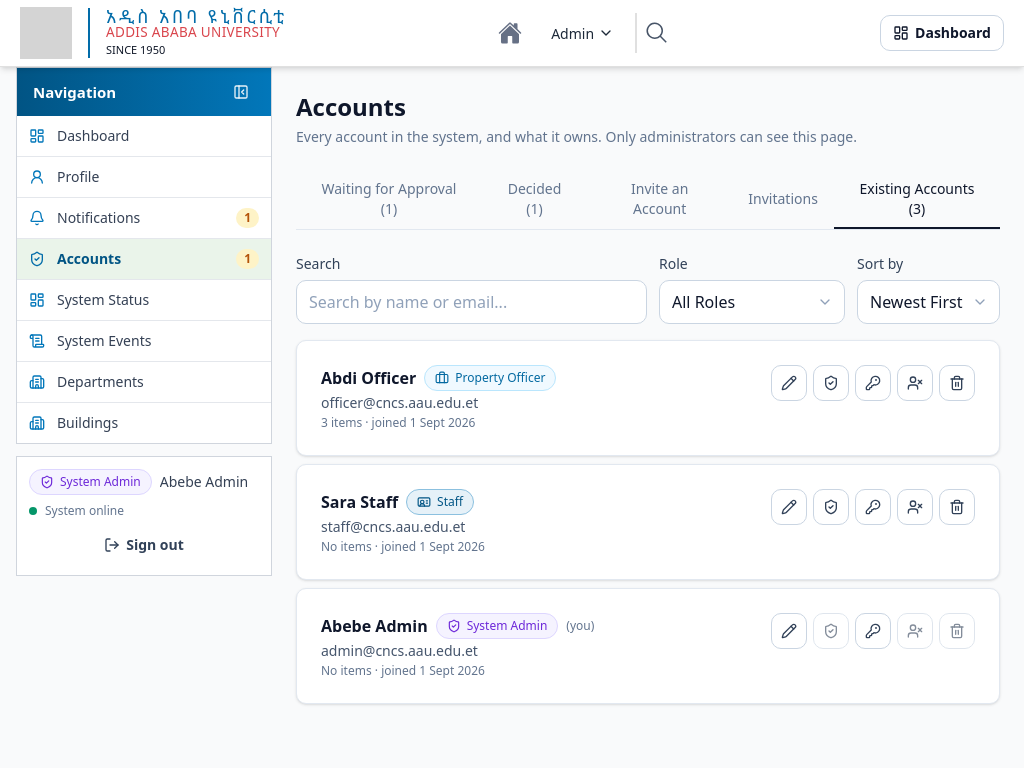
Test case: /admin/users — the accounts screen › warns about the sessions a role change ends before it is sent
Click the button named "Change role for Sara Staff" at {"x": 831, "y": 507}, box [813, 489, 849, 525]
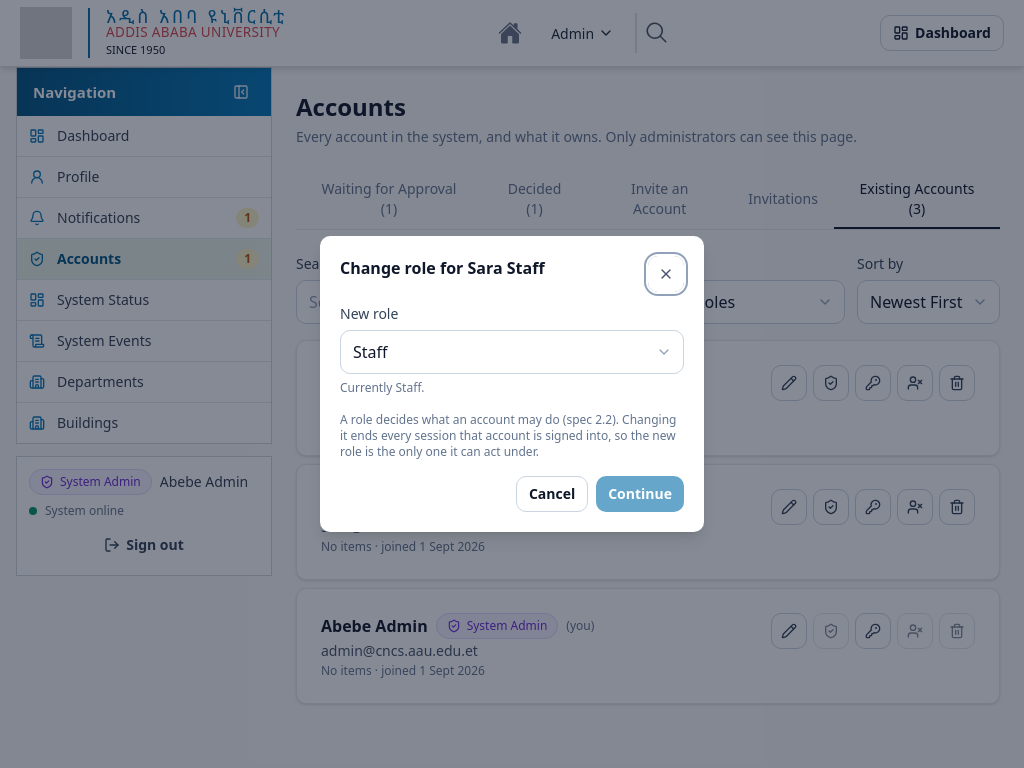
Select "System Admin" in the dropdown labelled "New role" at {"x": 512, "y": 352}, box [340, 330, 684, 374]
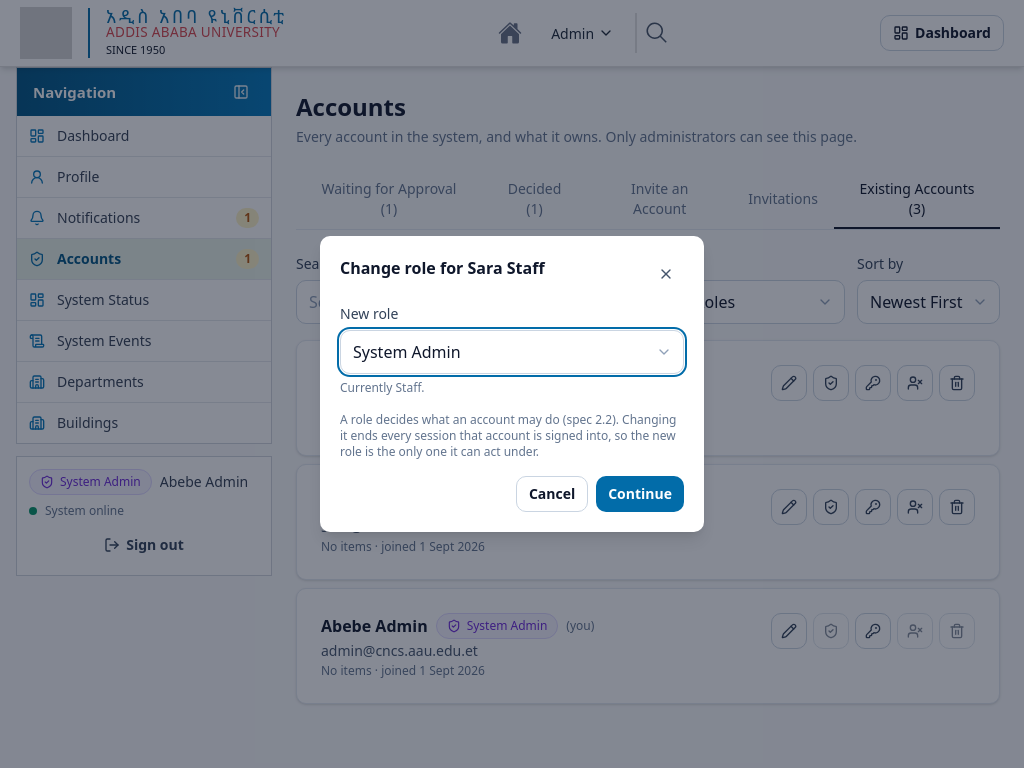
Click the button "Continue" at {"x": 640, "y": 494}, box [596, 476, 684, 512]
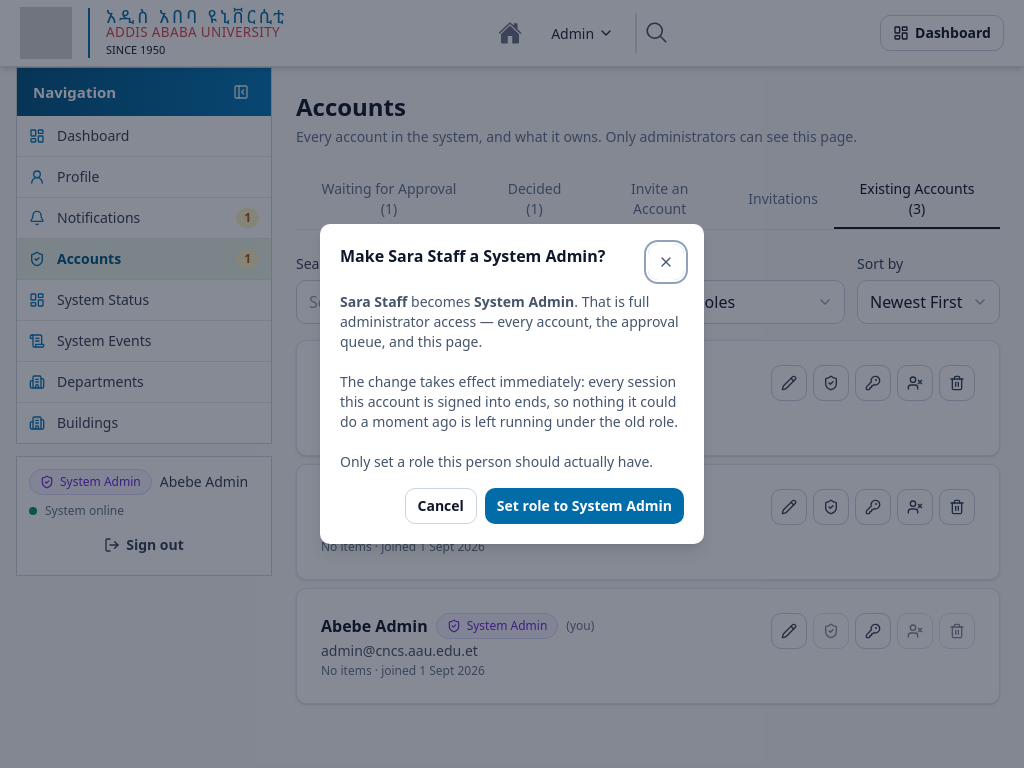
Result: the text "full administrator access" is shown at [340, 292, 679, 351]
Result: the text "every session this account is signed into ends" is shown at [340, 372, 678, 431]
